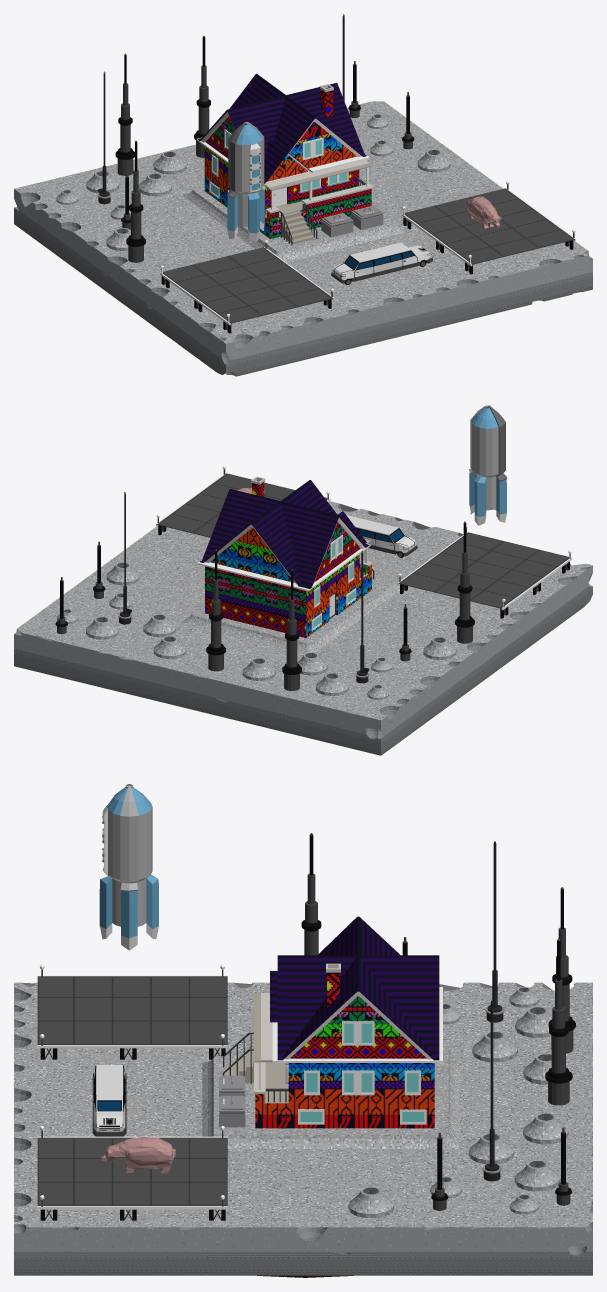
3 renders of one model, top to bottom at view 1: azimuth 30°, elevation 25°; view 2: azimuth 150°, elevation 25°; view 3: azimuth 270°, elevation 25°, orthographic. The views are drawn at different scales.
Parts seen in each view (by area): view 1: Cube.027, Cube.966, Cube.025, Cube.026, OBJRANDOM_ROCKETSHIP, Cube.028, VEHICLES_LIMOUSINE, Cylinder.021, Cylinder.020, Cylinder.017, ANIMAL_HIPOPOTAMO, Cube.029 (+6 smaller); view 2: Cube.027, Cube.966, Cube.025, OBJRANDOM_ROCKETSHIP, Cube.028, Cube.026, VEHICLES_LIMOUSINE, Cylinder.021, Cylinder.020, Cylinder.017, Cylinder.025, Cylinder.031 (+8 smaller); view 3: Cube.027, Cube.966, Cube.025, Cube.026, Cube.028, OBJRANDOM_ROCKETSHIP, VEHICLES_LIMOUSINE, Cylinder.017, ANIMAL_HIPOPOTAMO, Cylinder.021, Cylinder.020, Cylinder.031 (+9 smaller).
Part boxes in pixels (box(x1,y1,x2,y2)): Cube.027: box(14, 101, 592, 376); Cube.966: box(196, 74, 374, 245); Cube.025: box(160, 240, 334, 333); Cube.026: box(401, 181, 575, 274); OBJRANDOM_ROCKETSHIP: box(227, 122, 265, 242); Cube.028: box(183, 186, 405, 261); VEHICLES_LIMOUSINE: box(331, 242, 432, 284); Cylinder.021: box(126, 140, 145, 262); Cylinder.020: box(115, 53, 134, 175); Cylinder.017: box(194, 36, 210, 157); ANIMAL_HIPOPOTAMO: box(466, 196, 501, 228); Cube.029: box(321, 213, 353, 237); Cube.027: box(14, 501, 592, 755); Cube.966: box(197, 476, 374, 637); Cube.025: box(397, 525, 572, 618); OBJRANDOM_ROCKETSHIP: box(469, 405, 507, 525); Cube.028: box(181, 575, 399, 653); Cube.026: box(156, 466, 330, 537); VEHICLES_LIMOUSINE: box(347, 515, 417, 557); Cylinder.021: box(455, 521, 474, 643); Cylinder.020: box(282, 569, 301, 690); Cylinder.017: box(206, 549, 225, 671); Cylinder.025: box(423, 636, 456, 659); Cylinder.031: box(86, 616, 118, 639); Cube.027: box(14, 982, 592, 1275); Cube.966: box(222, 916, 442, 1128); Cube.025: box(37, 964, 227, 1059); Cube.026: box(37, 1125, 227, 1220); Cube.028: box(202, 1056, 459, 1148); OBJRANDOM_ROCKETSHIP: box(99, 784, 158, 950); VEHICLES_LIMOUSINE: box(92, 1065, 126, 1136); Cylinder.017: box(545, 938, 572, 1105); ANIMAL_HIPOPOTAMO: box(100, 1137, 175, 1173); Cylinder.021: box(301, 833, 321, 955); Cylinder.020: box(548, 887, 575, 1053); Cylinder.031: box(514, 1159, 560, 1191).
Size of the model in its own units: 4000 by 2333 by 4000.
Materials: 43 (8 with a texture image).
